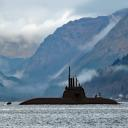submarine: (9, 66, 122, 105)
